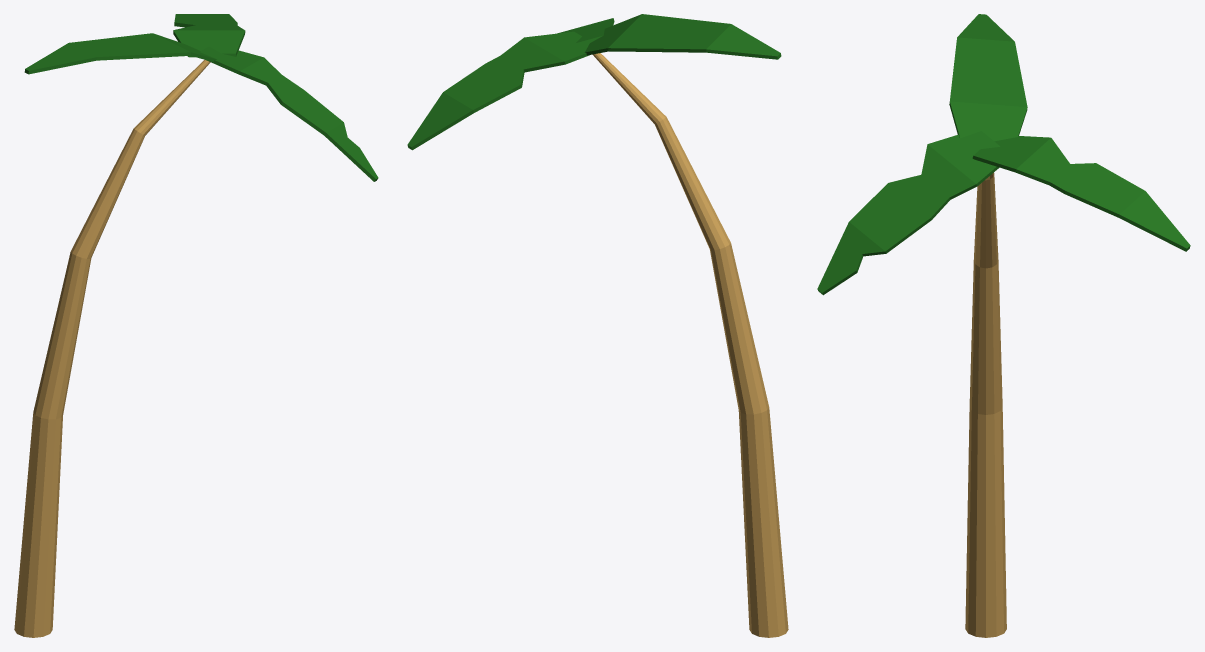
File: Palm3.fbx
3 views of the same model, side by side, from view 1: azimuth 30°, elevation 25°; view 2: azimuth 150°, elevation 25°; view 3: azimuth 270°, elevation 25° (orthographic). The views are drawn at different scales.
Visible parts, largest first — view 1: Cylinder.004; view 2: Cylinder.004; view 3: Cylinder.004.
Boxes of the visible parts, x1,y1,x2,y2 form: Cylinder.004: [14, 14, 378, 637]; Cylinder.004: [407, 14, 788, 637]; Cylinder.004: [817, 14, 1190, 637].
Size of the model in its own units: 285 by 297 by 543.
